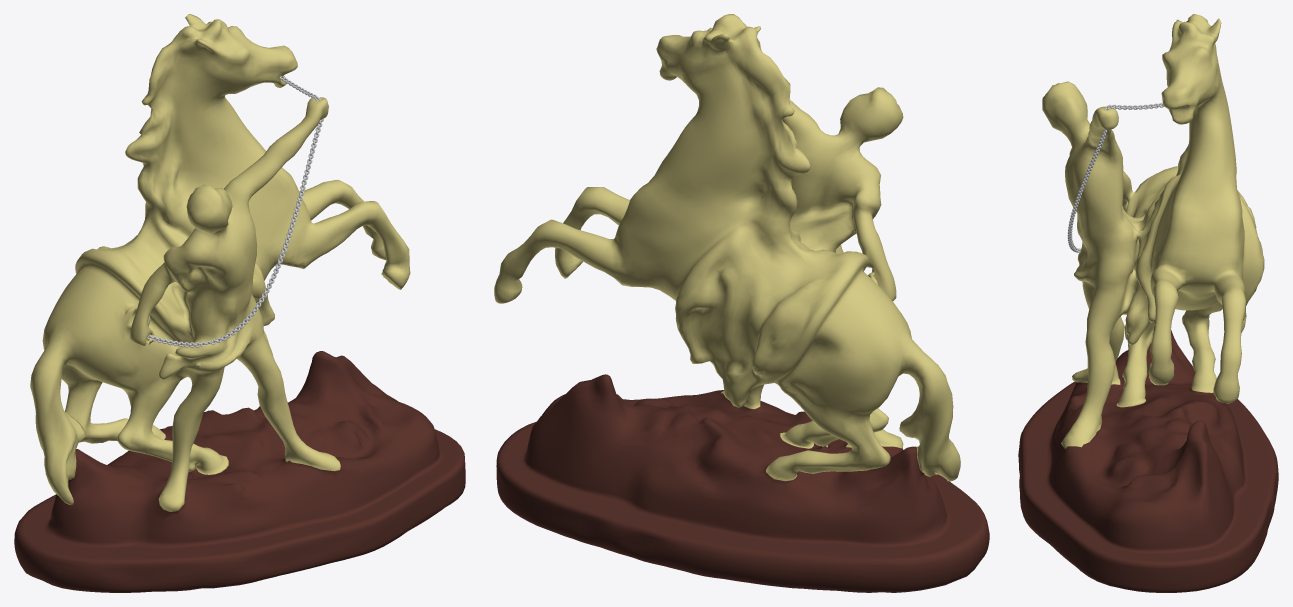
The model's file is 001_Horse.fbx.
3 views of the same model, side by side, from view 1: azimuth 30°, elevation 25°; view 2: azimuth 150°, elevation 25°; view 3: azimuth 270°, elevation 25° (orthographic). The views are drawn at different scales.
Parts seen in each view (by area): view 1: Horse; view 2: Horse; view 3: Horse.
Part boxes in pixels (<box>): Horse: <box>14,14,465,592</box>; Horse: <box>494,14,989,592</box>; Horse: <box>1018,14,1278,592</box>.
Bounding box in the file's own units: 251 × 273 × 136.
